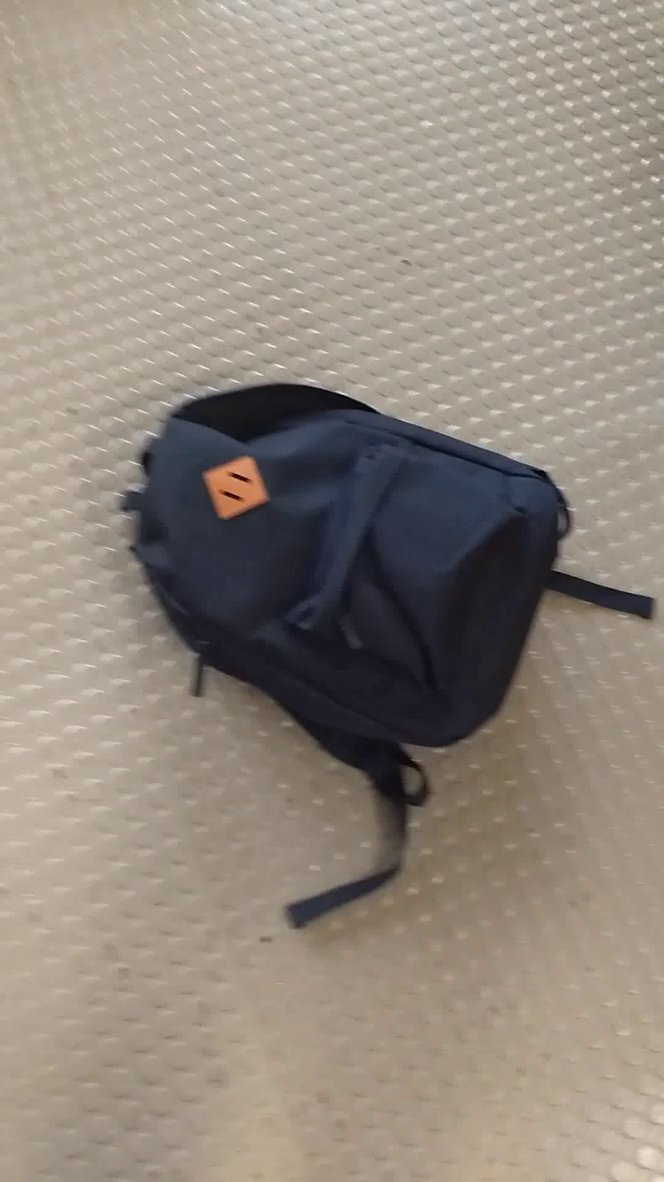bag: (113, 367, 657, 936)
